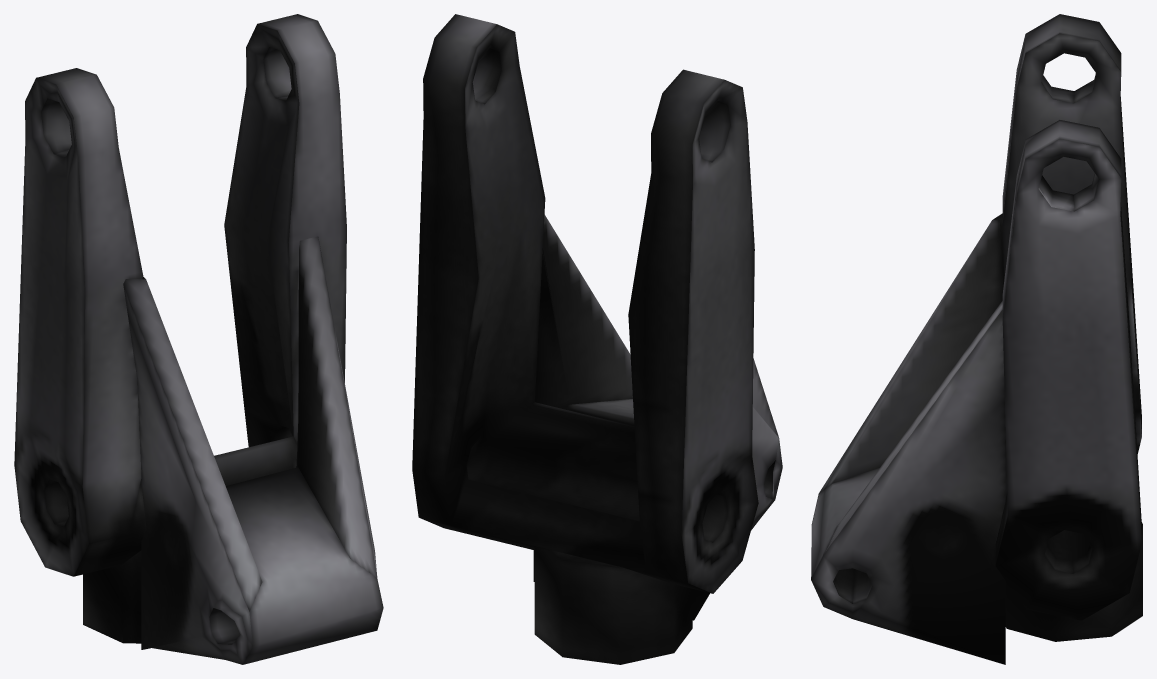
The model's file is r_uglut.obj.
3 views of the same model, side by side, from view 1: azimuth 30°, elevation 25°; view 2: azimuth 150°, elevation 25°; view 3: azimuth 270°, elevation 25° (orthographic). The views are drawn at different scales.
Parts seen in each view (by area): view 1: <dummy_root>; view 2: <dummy_root>; view 3: <dummy_root>.
Part boxes in pixels (x1,y1,x2,y2): <dummy_root>: [14, 14, 383, 664]; <dummy_root>: [412, 14, 782, 664]; <dummy_root>: [811, 14, 1142, 664].
Size of the model in its own units: 0.0824 by 0.1684 by 0.0922.
Materials: 1 (1 with a texture image).
